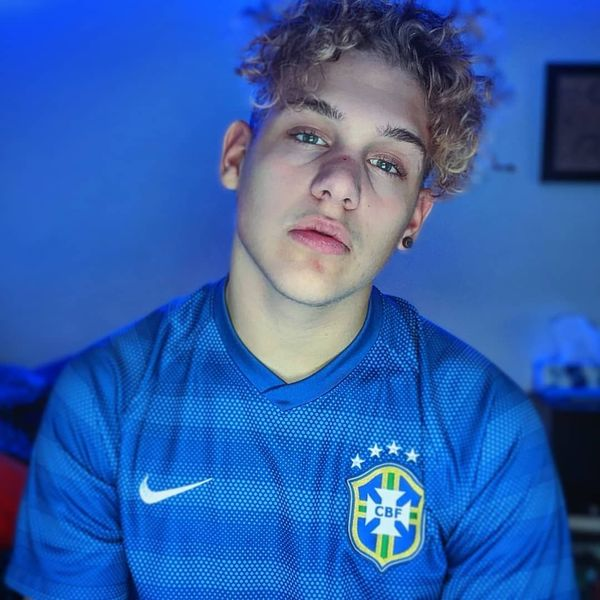nike: (138, 471, 216, 505)
